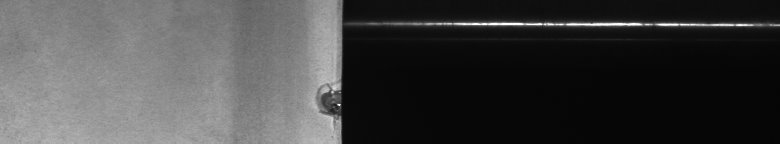hb: (309, 78, 332, 128)
